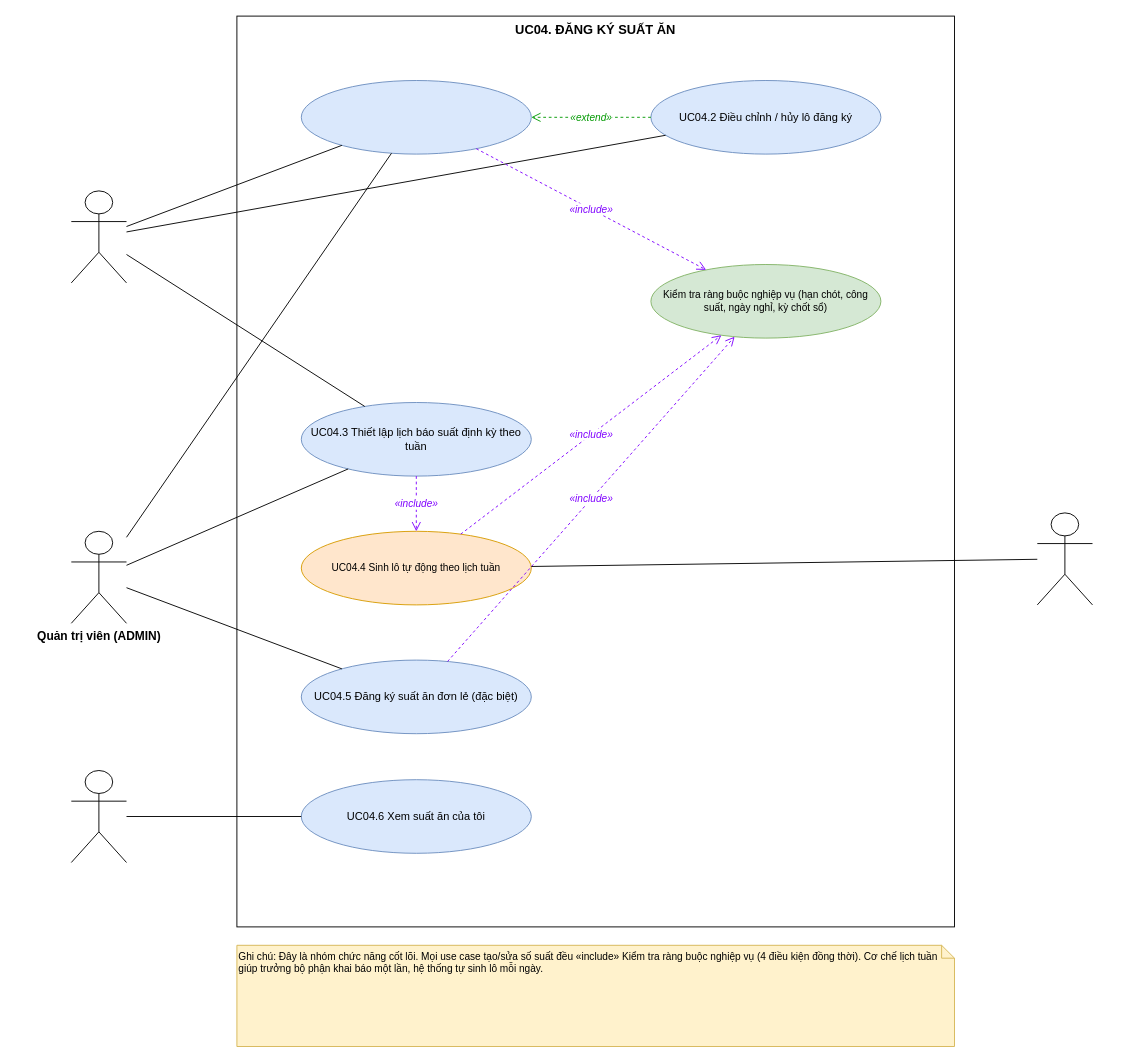
This 1146x1063 diagram has some shape labels left out. The shapes that lost their labels are listed below. From the top down, each one's centre as x and y in pixels, then its label:
At point 415,117: "UC04.1 Đăng ký suất ăn theo lô".
At point 98,236: "Trưởng bộ phận (MANAGER)".
At point 1064,558: "Hệ thống (bộ định thời)".
At point 98,816: "Công nhân (EMPLOYEE)".
